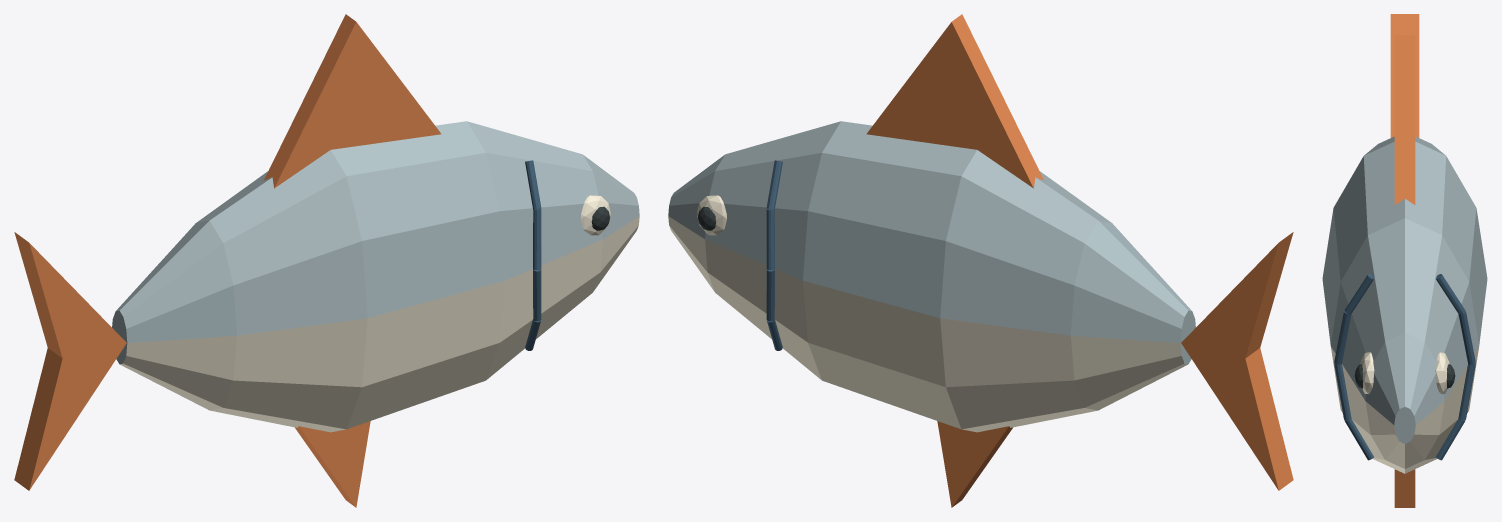
The model's file is harbor_bream.glb.
3 views of the same model, side by side, from view 1: azimuth 30°, elevation 25°; view 2: azimuth 150°, elevation 25°; view 3: azimuth 270°, elevation 25° (orthographic). The views are drawn at different scales.
Parts seen in each view (by area): view 1: metal, ivory, orange, navy; view 2: metal, ivory, orange, navy; view 3: metal, ivory, orange, navy, rubber.
Boxes of the visible parts, <box> form: metal: <box>112,121,639,364</box>; ivory: <box>120,195,639,432</box>; orange: <box>14,14,441,507</box>; navy: <box>525,160,541,350</box>; metal: <box>668,121,1195,364</box>; ivory: <box>668,195,1187,432</box>; orange: <box>866,14,1293,507</box>; navy: <box>766,160,782,350</box>; metal: <box>1322,136,1487,443</box>; ivory: <box>1331,347,1478,473</box>; orange: <box>1390,14,1419,507</box>; navy: <box>1334,274,1475,460</box>; rubber: <box>1354,364,1455,388</box>.
Bounding box in the file's own units: 0.833 × 0.632 × 0.2.
